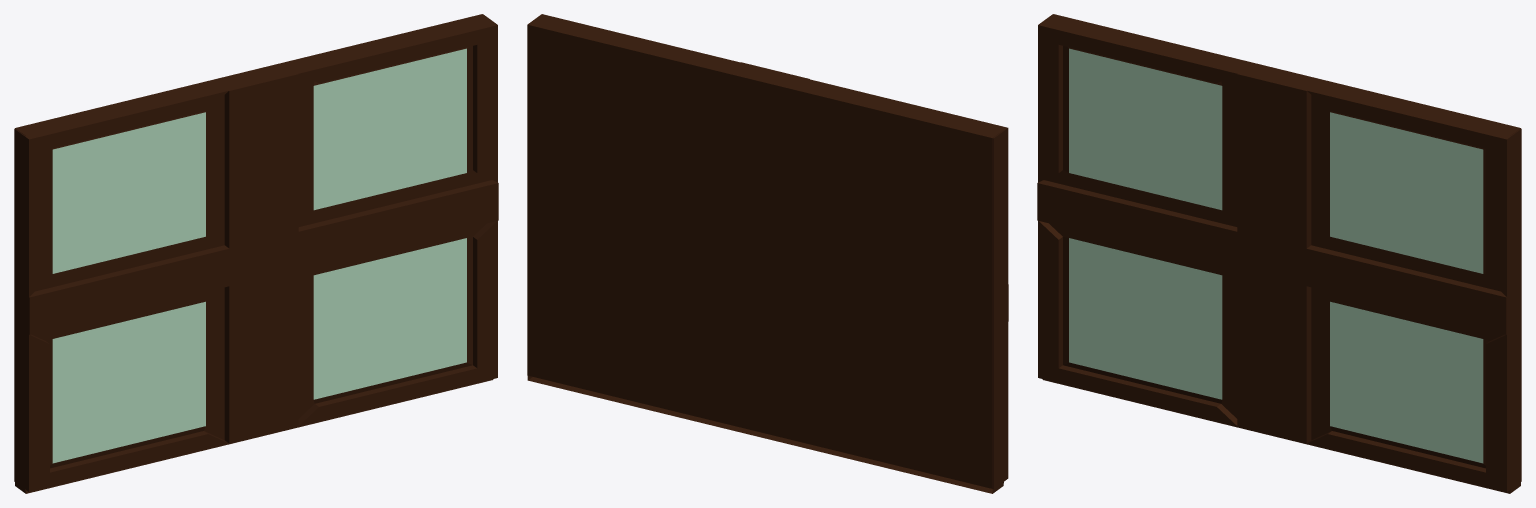
File: ventana2.fbx
3 renders of one model, left to right at view 1: azimuth 30°, elevation 25°; view 2: azimuth 150°, elevation 25°; view 3: azimuth 330°, elevation 25°, orthographic.
Parts seen in each view (by area): view 1: Pared_1.001; view 2: Pared_1.001; view 3: Pared_1.001.
Boxes of the visible parts, left/top/right/bottom form: Pared_1.001: left=14, top=14, right=498, bottom=493; Pared_1.001: left=527, top=14, right=1008, bottom=493; Pared_1.001: left=1037, top=14, right=1521, bottom=493.
Size of the model in its own units: 1186 by 865 by 67.28.
